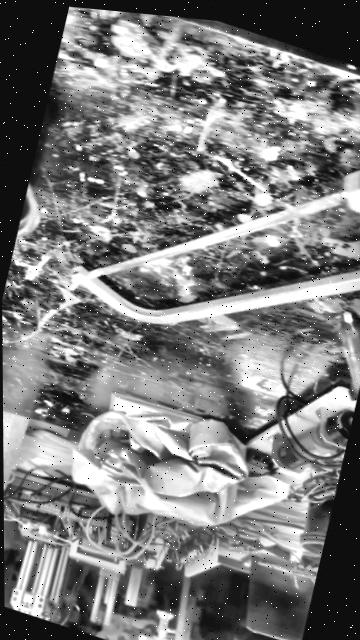pot: (16, 103, 50, 239), (300, 500, 334, 556)
